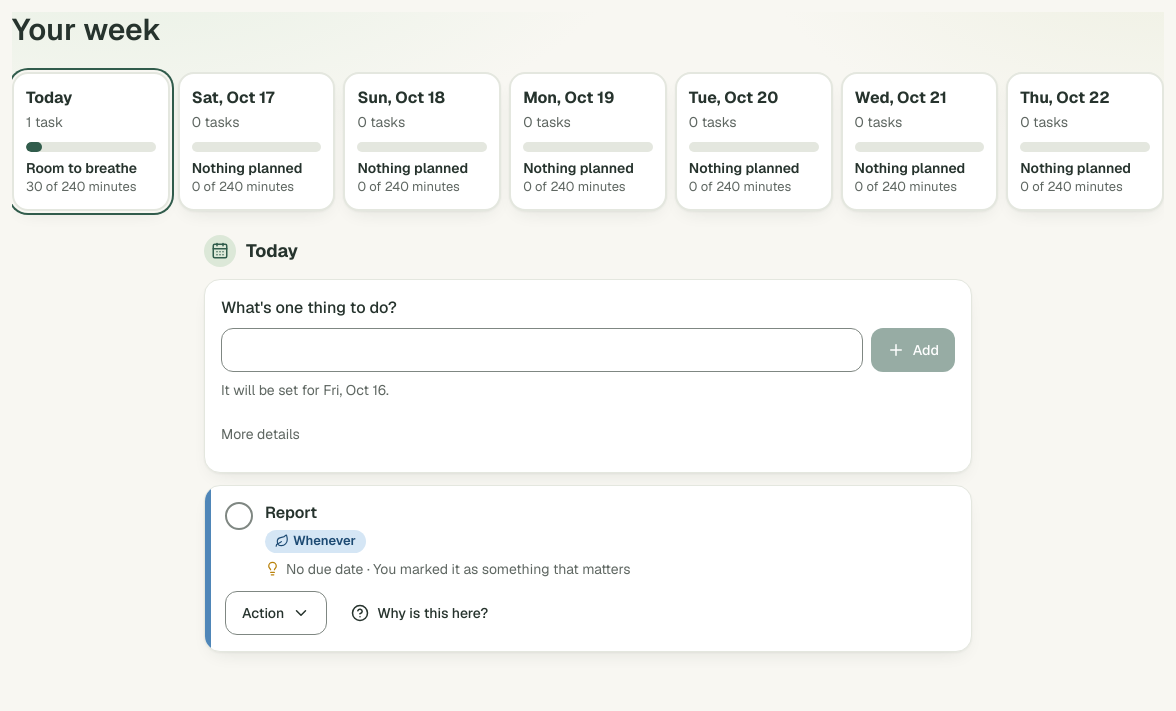
WeekView › reloads the week after an action
Click the button "Action" at coordinates (276, 613), box [225,591,327,635]
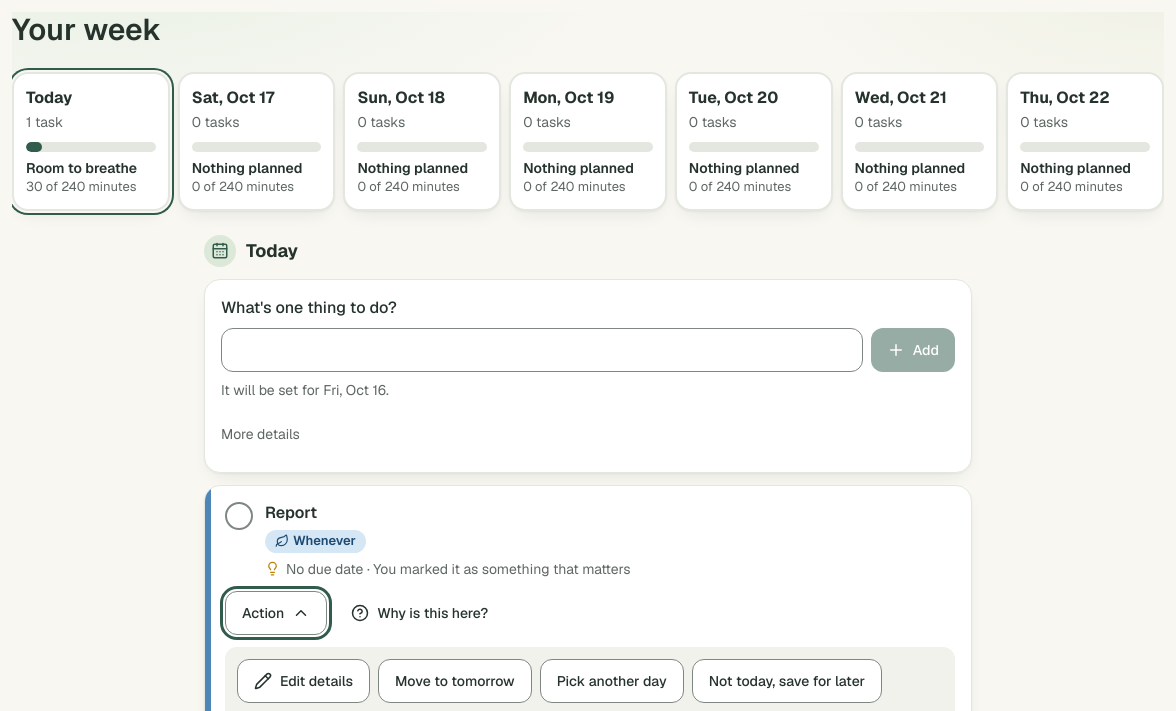
Click the button "Move to tomorrow" at coordinates (455, 681), box [378,659,532,703]
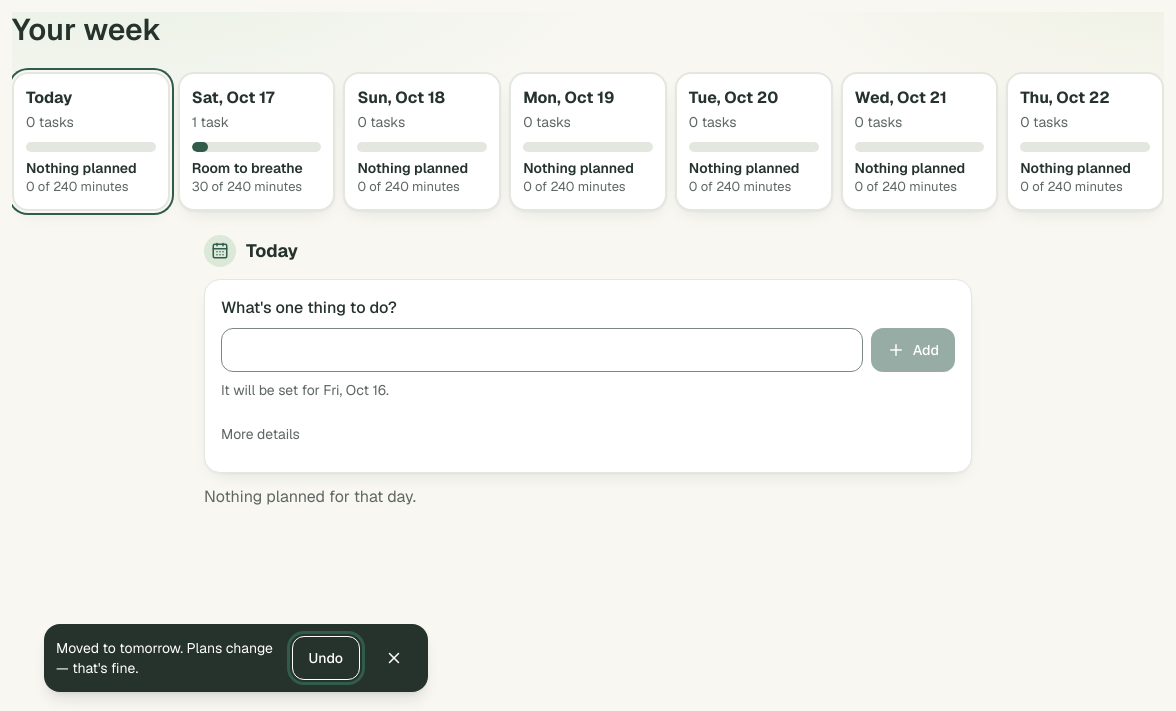
Now the text "Moved to tomorrow. Plans change — that's fine." is shown, box [56,638,280,678]
Now the text "Nothing planned for that day." is shown, box [204,486,416,507]
